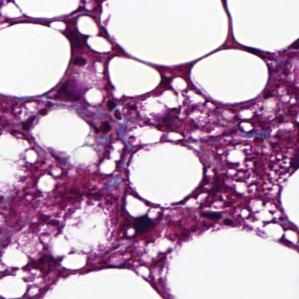inflammation: (100, 97, 140, 134), (19, 98, 57, 134), (70, 53, 90, 71)
steatosis: (200, 209, 242, 229), (130, 214, 158, 236)
